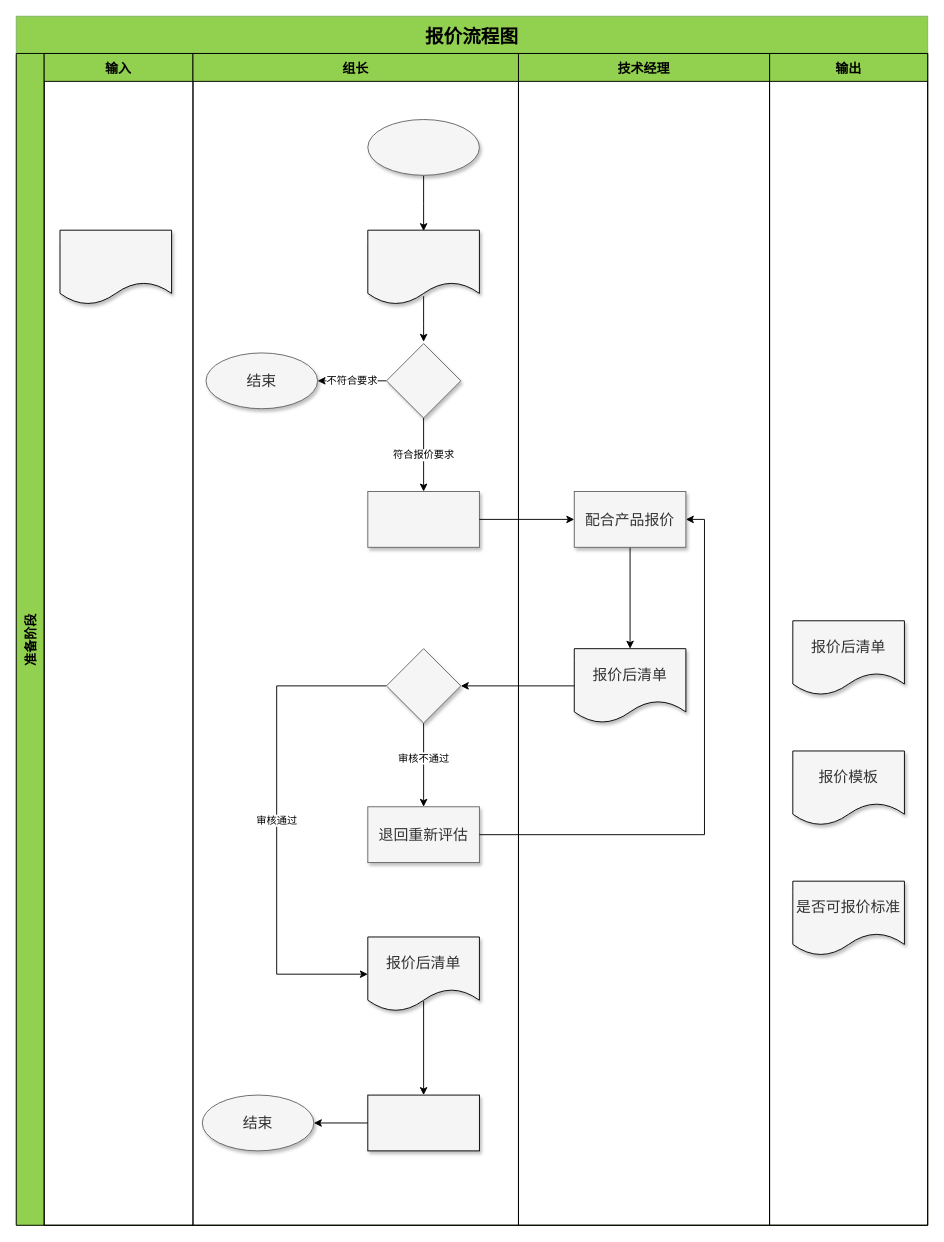
This 944x1242 diagram has some shape labels left out. Each missing label, with the centre of its shape:
"审核" goes at (424,687).
"开始" goes at (424,148).
"报价清单" goes at (424,268).
"报价需求清单" goes at (116,268).
"指派技术经理" goes at (424,520).
"是否符合" goes at (424,382).
"邮件到前端" goes at (424,1123).
